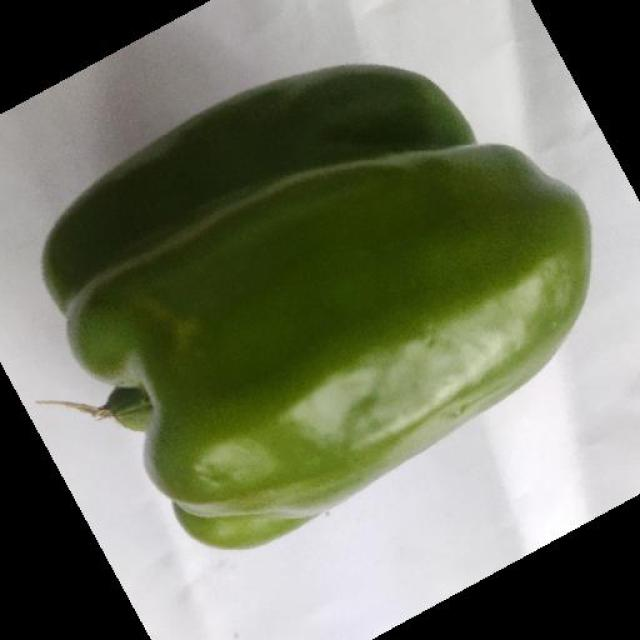Stale_Capsicum: (1, 89, 491, 272)
